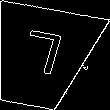L_S: (15, 30, 68, 85)
